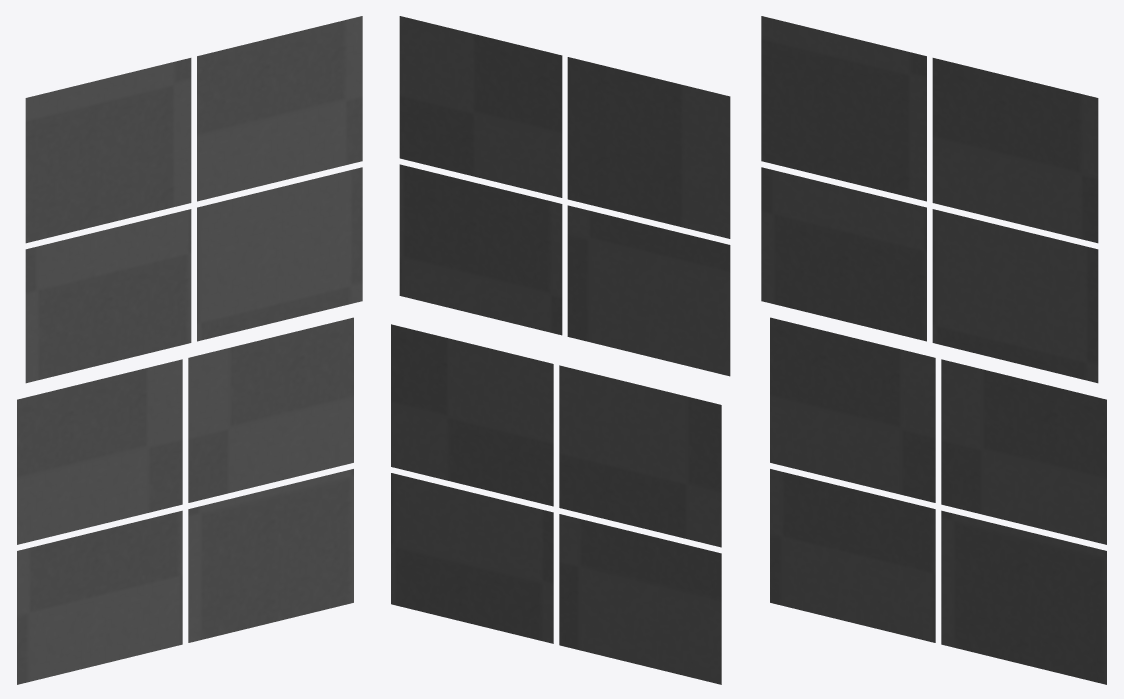
The model's file is SM_House_WindowGlass_A4.glb.
The picture shows the model from 3 angles, left to right: view 1: azimuth 30°, elevation 25°; view 2: azimuth 150°, elevation 25°; view 3: azimuth 330°, elevation 25°; orthographic projection.
Visible parts, largest first — view 1: SM_House_WindowGlass_A4; view 2: SM_House_WindowGlass_A4; view 3: SM_House_WindowGlass_A4.
Boxes of the visible parts, <box> form: SM_House_WindowGlass_A4: <box>17,16,362,684</box>; SM_House_WindowGlass_A4: <box>391,16,730,684</box>; SM_House_WindowGlass_A4: <box>761,16,1106,684</box>.
Bounding box in the file's own units: 76.2 × 128 × 4.4.
1 material, 1 textured.
